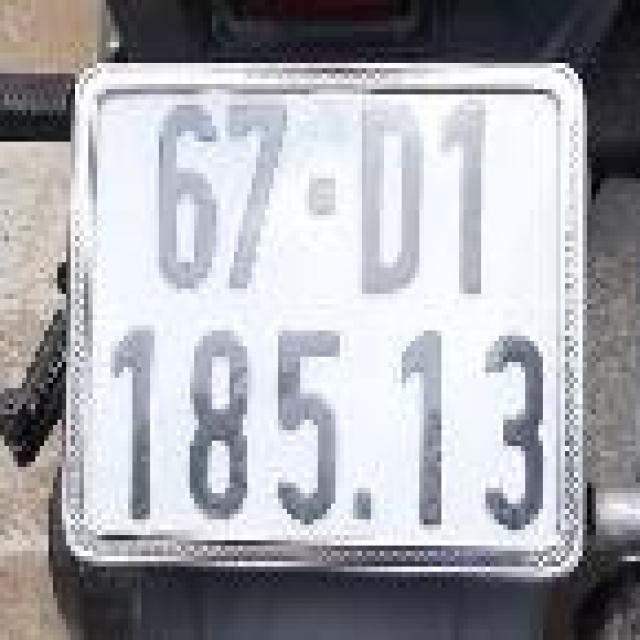1: (395, 315, 457, 540), (104, 315, 161, 535), (439, 91, 497, 302)
3: (474, 314, 558, 546)
5: (272, 310, 342, 535)
6: (148, 89, 223, 299)
7: (223, 94, 302, 299)
8: (178, 315, 262, 535)
D: (338, 81, 426, 307)
